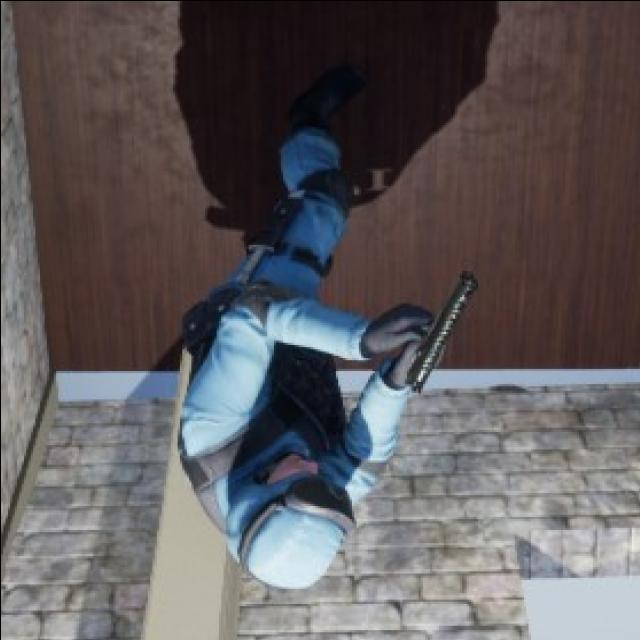pistol: (400, 260, 485, 398)
